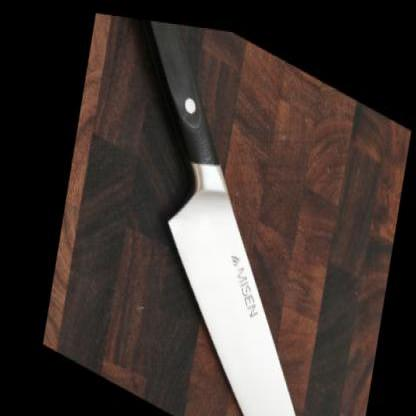knife: (108, 125, 385, 415)
